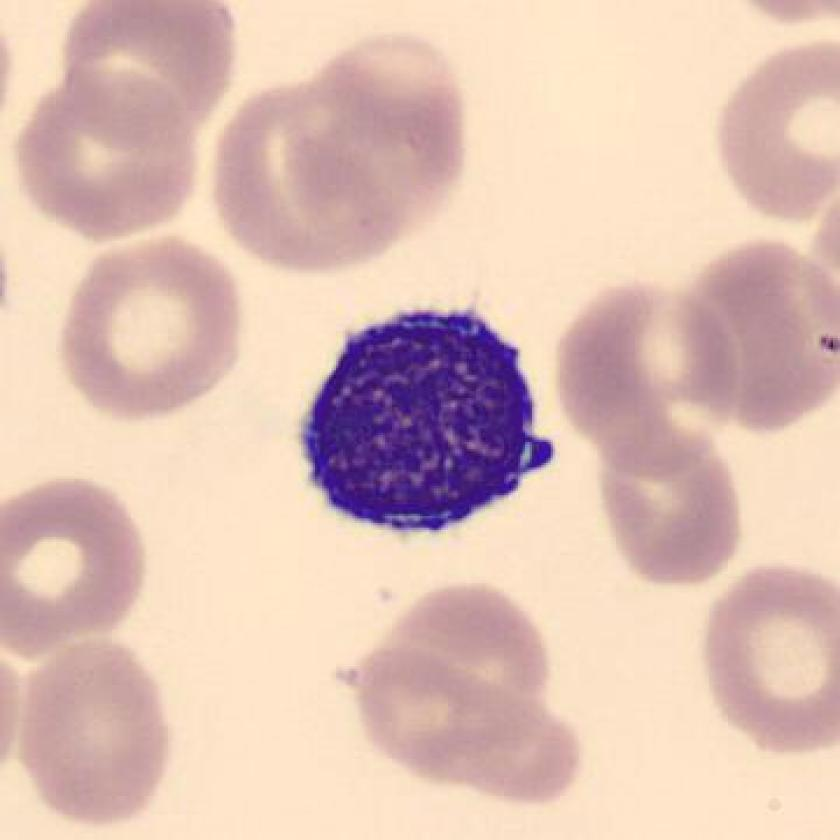lymphocyte: (283, 295, 568, 552)
